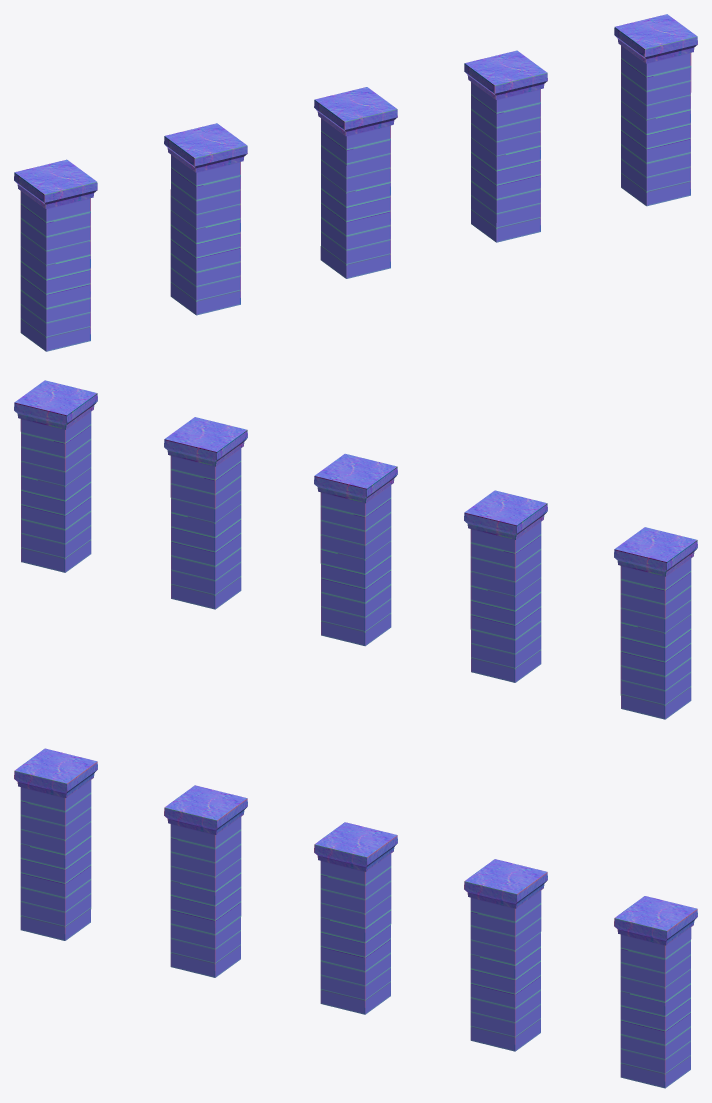
3 renders of one model, top to bottom at view 1: azimuth 30°, elevation 25°; view 2: azimuth 150°, elevation 25°; view 3: azimuth 330°, elevation 25°, orthographic.
Parts seen in each view (by area): view 1: pillar_low_015; view 2: pillar_low_015; view 3: pillar_low_015.
Boxes of the visible parts, x1,y1,x2,y2 form: pillar_low_015: [14, 14, 697, 351]; pillar_low_015: [14, 380, 697, 719]; pillar_low_015: [14, 748, 697, 1088].
Size of the model in its own units: 1694 by 397 by 141.
